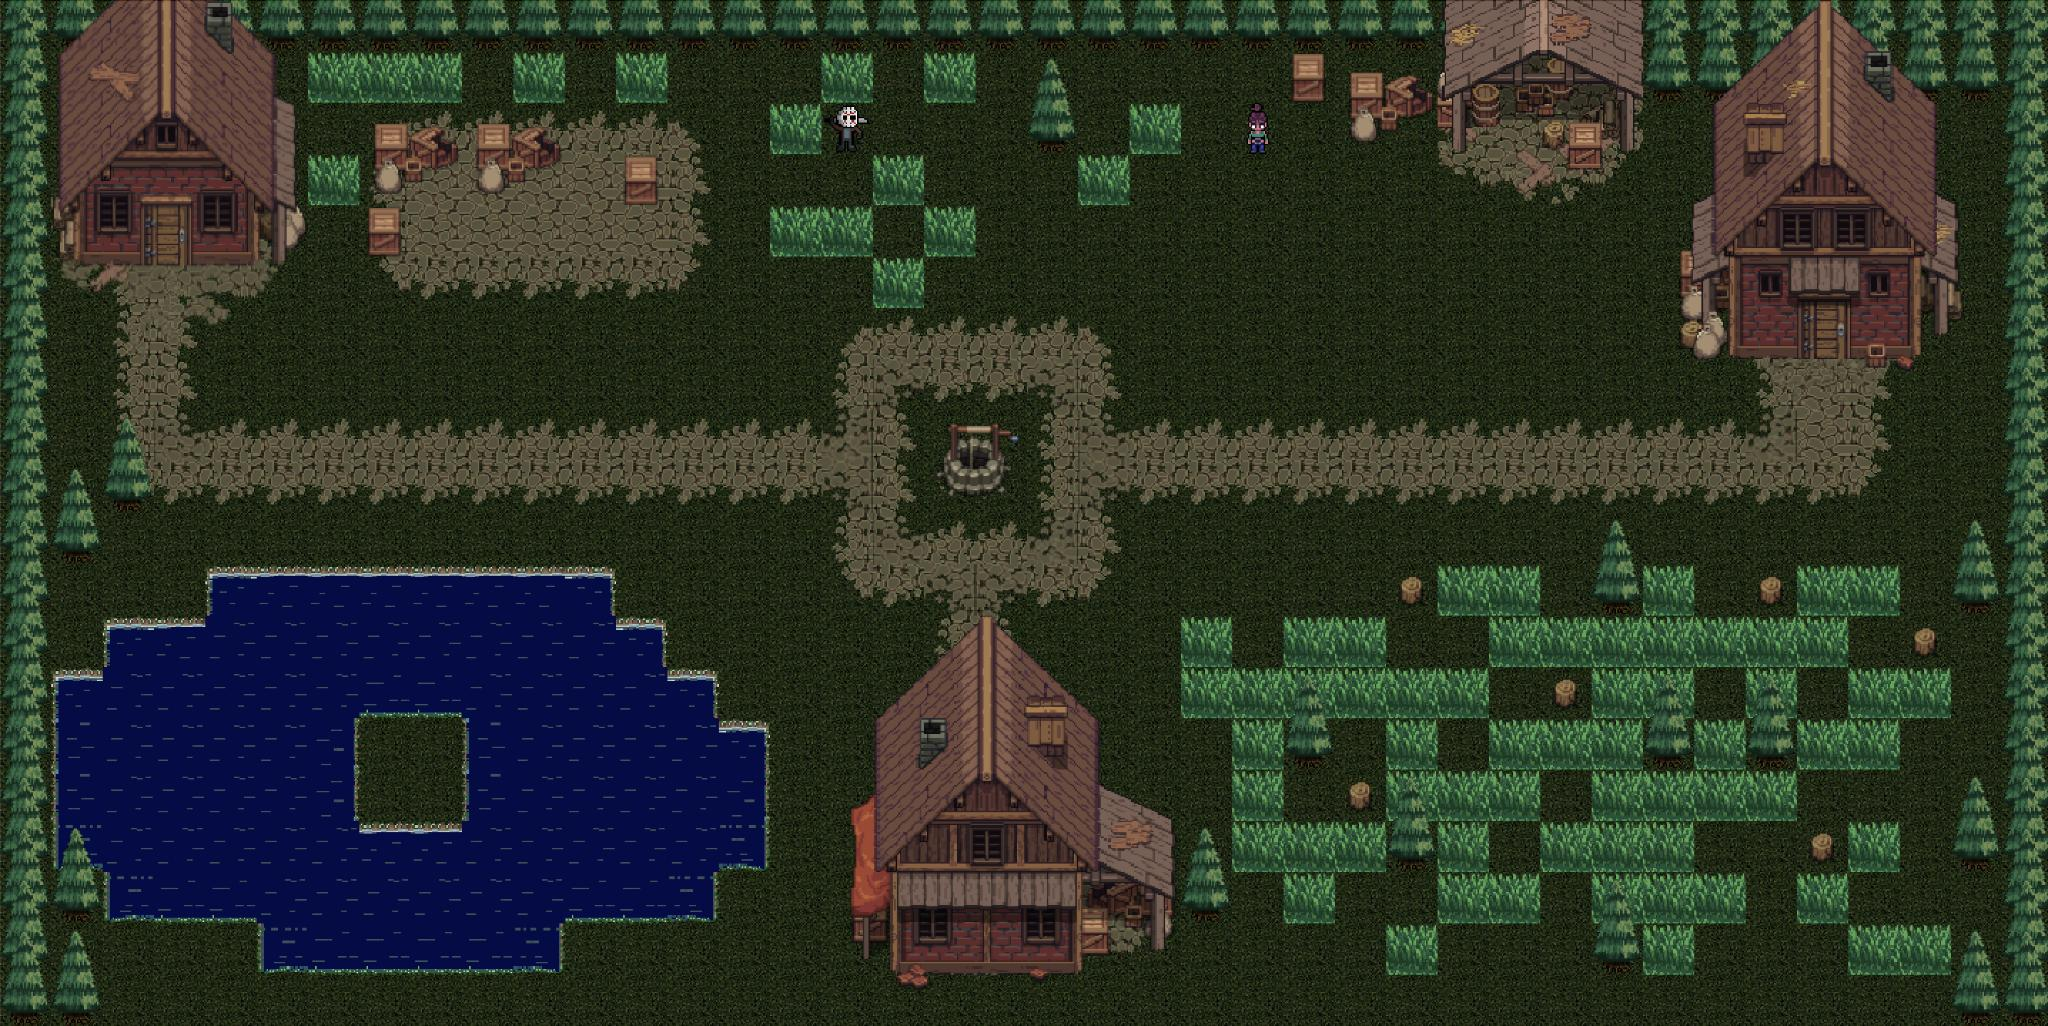Hide: (904, 393, 1039, 526), (1514, 133, 1615, 254), (597, 136, 684, 226), (343, 190, 425, 275), (1273, 41, 1345, 110)
Interaction: (188, 550, 629, 601), (711, 688, 794, 932), (241, 955, 623, 993), (554, 903, 749, 958), (111, 906, 275, 957), (96, 580, 236, 636), (609, 580, 673, 636), (657, 631, 721, 687), (58, 635, 120, 691)
Jason: (826, 102, 872, 152)
Obstacle: (1644, 73, 1994, 410), (824, 721, 1179, 1026), (54, 51, 309, 357), (1433, 0, 1645, 209), (471, 120, 561, 198), (373, 120, 459, 199), (1347, 69, 1432, 144), (1590, 565, 1645, 616), (1331, 771, 1385, 822), (1386, 565, 1437, 616), (0, 927, 51, 978), (0, 876, 51, 927), (0, 421, 51, 472), (1997, 769, 2048, 821), (1997, 718, 2048, 769), (1997, 264, 2048, 315), (51, 520, 102, 571), (102, 465, 153, 516), (1900, 615, 1949, 669), (1542, 669, 1591, 720), (1798, 821, 1848, 872), (1027, 105, 1078, 154), (54, 0, 105, 50), (205, 0, 256, 50), (259, 0, 310, 50), (0, 826, 51, 876), (0, 776, 51, 826), (0, 725, 51, 775), (0, 674, 51, 724), (361, 0, 412, 50), (414, 0, 465, 50), (463, 0, 514, 50), (0, 624, 51, 674), (514, 0, 565, 50), (0, 573, 51, 623), (565, 0, 616, 50), (0, 522, 51, 572), (619, 0, 670, 50), (0, 472, 51, 522), (669, 0, 720, 50), (720, 0, 771, 50), (0, 372, 51, 421), (771, 0, 822, 50), (0, 321, 51, 370), (0, 271, 51, 321), (873, 0, 924, 50), (0, 220, 51, 270), (924, 0, 975, 50), (1, 161, 52, 211), (976, 0, 1027, 50), (1, 109, 52, 158), (1027, 0, 1078, 50), (1, 52, 52, 102), (1078, 0, 1129, 50), (1, 0, 52, 50), (1132, 0, 1183, 50), (1183, 0, 1234, 50), (1234, 0, 1285, 50), (1285, 0, 1336, 50), (1337, 0, 1388, 50), (1388, 0, 1439, 50), (1644, 51, 1695, 101), (1696, 51, 1747, 101), (1644, 0, 1695, 50), (1696, 0, 1747, 50), (1750, 0, 1801, 50), (1849, 0, 1900, 50), (1900, 0, 1951, 50), (1954, 0, 2005, 50), (1901, 50, 1952, 99), (1954, 50, 2005, 99), (1997, 921, 2048, 971), (1997, 870, 2048, 920), (1997, 821, 2048, 870), (1997, 366, 2048, 416), (1997, 50, 2048, 99), (1997, 669, 2048, 718), (1997, 315, 2048, 365), (1997, 619, 2048, 669), (1997, 0, 2048, 50), (1997, 517, 2048, 567), (1997, 568, 2048, 618), (1997, 156, 2048, 205), (1997, 467, 2048, 517), (1997, 215, 2048, 264), (1997, 417, 2048, 467), (1997, 103, 2048, 153), (52, 873, 103, 923), (1386, 822, 1438, 870), (310, 0, 360, 50), (823, 0, 873, 50), (1284, 718, 1332, 769), (1183, 872, 1231, 923), (52, 978, 103, 1026), (0, 978, 51, 1026), (1996, 978, 2047, 1026), (1950, 568, 2002, 615), (1593, 925, 1642, 974), (1645, 720, 1693, 769), (1748, 718, 1795, 769), (1954, 824, 2004, 872), (1952, 980, 2004, 1026), (1748, 568, 1795, 616)
Slow: (260, 584, 353, 961), (472, 585, 557, 962), (111, 640, 213, 911), (557, 585, 612, 913), (213, 585, 260, 911), (355, 584, 470, 711), (352, 840, 471, 962), (614, 635, 666, 910), (669, 687, 712, 910), (64, 682, 110, 868), (718, 735, 758, 862), (309, 154, 360, 205), (308, 51, 359, 102), (359, 51, 410, 102), (411, 51, 462, 102), (513, 54, 564, 105), (616, 52, 667, 103), (1285, 667, 1336, 718), (1336, 667, 1387, 718), (1438, 667, 1489, 718), (1233, 718, 1284, 769), (1437, 821, 1488, 872), (1591, 718, 1642, 769), (1590, 769, 1641, 821), (1645, 821, 1696, 872), (1438, 565, 1489, 616), (1489, 565, 1540, 616), (1489, 616, 1540, 667), (1542, 616, 1593, 667), (1590, 667, 1641, 718), (1798, 616, 1849, 667), (1747, 667, 1798, 718), (1797, 718, 1848, 769), (1849, 821, 1900, 872), (924, 52, 975, 102), (1182, 618, 1233, 667), (1182, 670, 1233, 720), (1234, 670, 1285, 720), (1284, 618, 1335, 667), (1336, 618, 1387, 667), (1387, 667, 1437, 718), (1234, 771, 1285, 821), (1233, 823, 1284, 873), (1284, 823, 1335, 873), (1333, 823, 1385, 873), (1285, 874, 1336, 924), (1386, 925, 1437, 975), (1437, 874, 1488, 924), (1488, 874, 1539, 924), (1387, 772, 1438, 822), (1387, 720, 1438, 769), (1438, 771, 1489, 821), (1488, 771, 1539, 821), (1488, 720, 1539, 769), (1540, 720, 1591, 769), (1542, 822, 1593, 872), (1591, 822, 1642, 872), (1644, 771, 1695, 821), (1693, 771, 1744, 821), (1593, 874, 1644, 924), (1644, 876, 1695, 925), (1695, 876, 1746, 925), (1644, 924, 1695, 974), (1593, 618, 1644, 667), (1642, 669, 1693, 718), (1645, 618, 1696, 667), (1644, 567, 1695, 616), (1695, 720, 1746, 769), (1744, 771, 1795, 821), (1696, 618, 1747, 667), (1747, 618, 1798, 667), (1849, 720, 1900, 769), (1849, 669, 1900, 718), (1797, 567, 1848, 616), (1849, 565, 1900, 615), (1900, 667, 1950, 718), (1798, 874, 1849, 924), (1849, 927, 1900, 976), (1900, 925, 1951, 975), (823, 52, 873, 102), (769, 105, 821, 153), (768, 207, 819, 255), (822, 207, 873, 255), (873, 157, 924, 205), (924, 208, 975, 256), (873, 259, 924, 308), (1078, 156, 1129, 204), (1129, 105, 1180, 153)
Victim: (1234, 102, 1282, 157)
